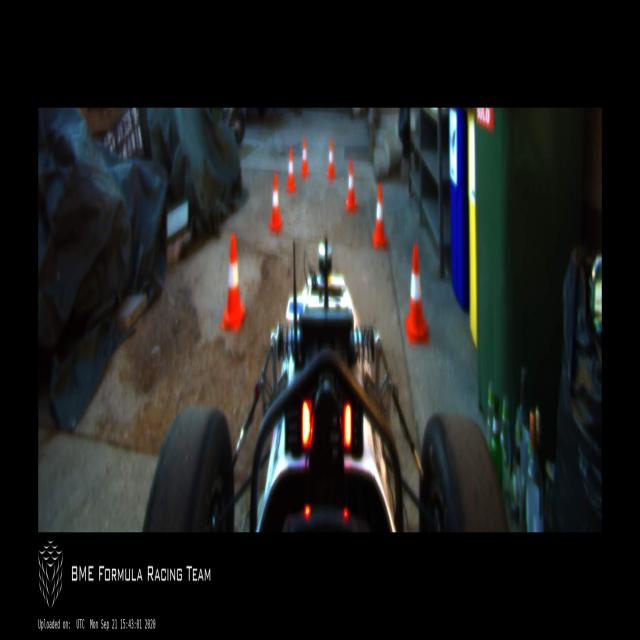orange_cone: (220, 234, 246, 331), (405, 243, 429, 343), (372, 182, 388, 250), (268, 172, 282, 234), (345, 160, 357, 212), (286, 150, 296, 192), (300, 137, 309, 177), (327, 139, 335, 179)
